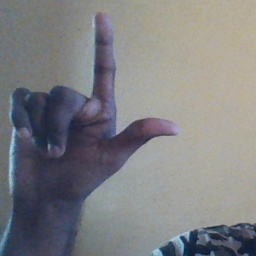L: (9, 11, 182, 194)
